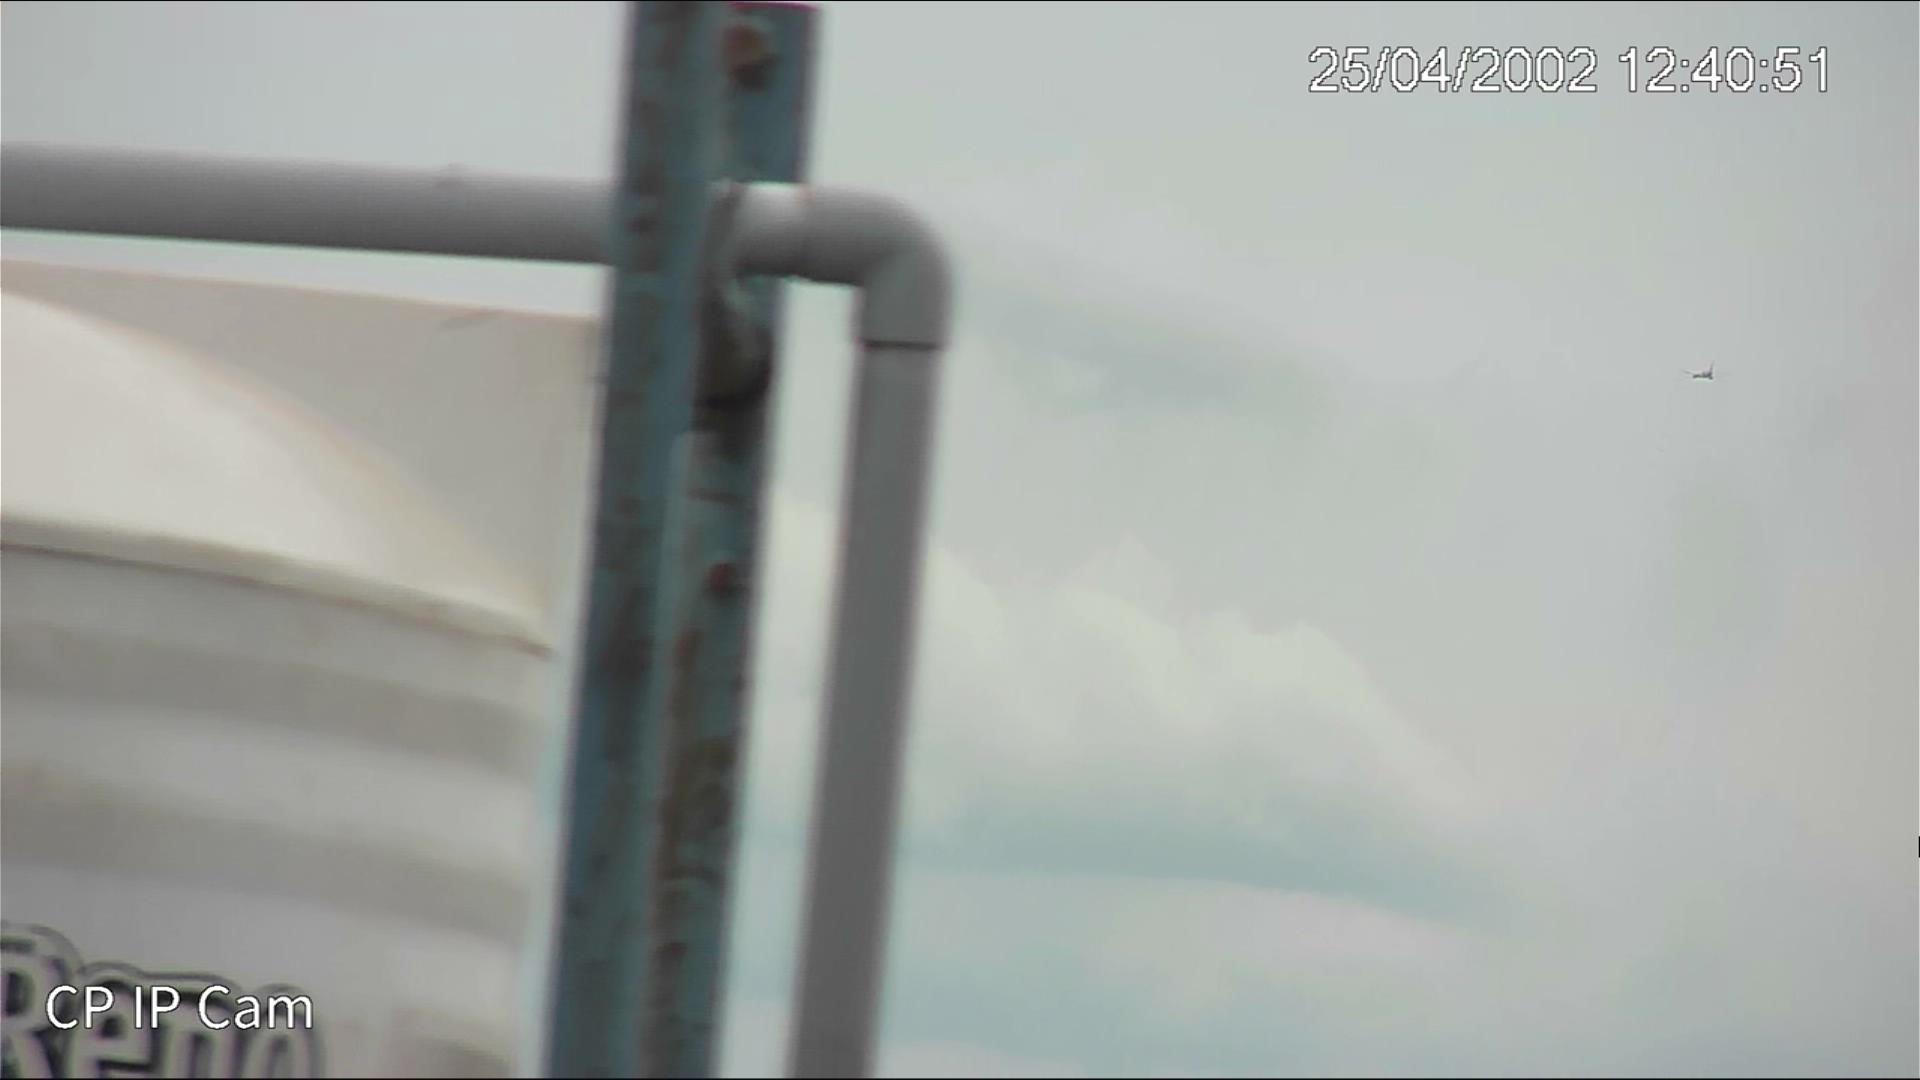SU_30: (1685, 363, 1720, 382)
